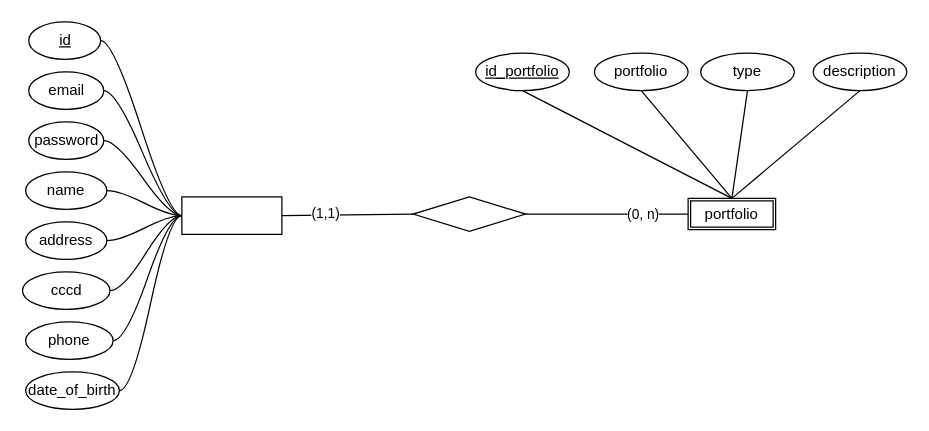
The diagram is 929 pixels wide and 431 high, and some of its shapes have lost their labels. Here are the shapes that lost their labels. From the top down, the centre of each, then its label:
the point at 231,215: account
the point at 469,213: Có
